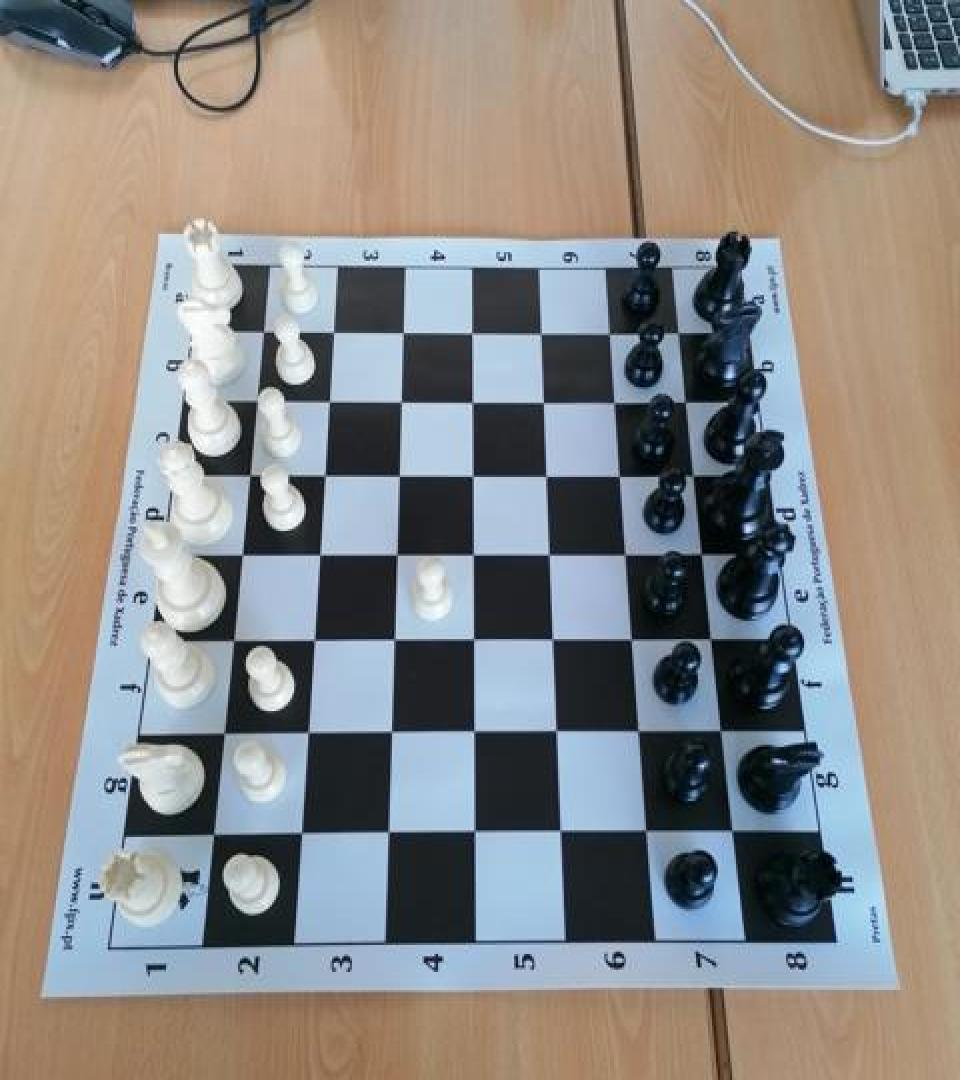xcorner: (668, 315, 698, 349), (598, 315, 628, 349), (528, 314, 558, 348), (458, 314, 488, 348), (388, 314, 418, 348), (317, 312, 347, 346), (247, 312, 277, 346), (675, 384, 705, 418), (603, 384, 633, 418), (531, 384, 561, 418), (458, 384, 488, 418), (386, 384, 416, 418), (313, 384, 343, 418), (239, 382, 269, 416), (683, 459, 713, 493), (608, 459, 638, 493), (534, 459, 564, 493), (459, 459, 489, 493), (383, 459, 413, 493), (308, 458, 338, 492), (232, 458, 262, 492), (691, 539, 721, 573), (614, 539, 644, 573), (537, 539, 567, 573), (459, 539, 489, 573), (381, 539, 411, 573), (303, 539, 333, 573), (224, 539, 254, 573), (700, 626, 730, 660), (620, 626, 650, 660), (540, 626, 570, 660), (459, 626, 489, 660), (378, 626, 408, 660), (297, 626, 327, 660), (215, 626, 245, 660), (709, 718, 739, 752), (626, 718, 656, 752), (543, 718, 573, 752), (459, 719, 489, 753), (375, 719, 405, 753), (291, 719, 321, 753), (206, 720, 236, 754), (720, 818, 750, 852), (633, 818, 663, 852), (547, 819, 577, 853), (459, 819, 489, 853), (372, 820, 402, 854), (284, 820, 314, 854), (196, 821, 226, 855)
